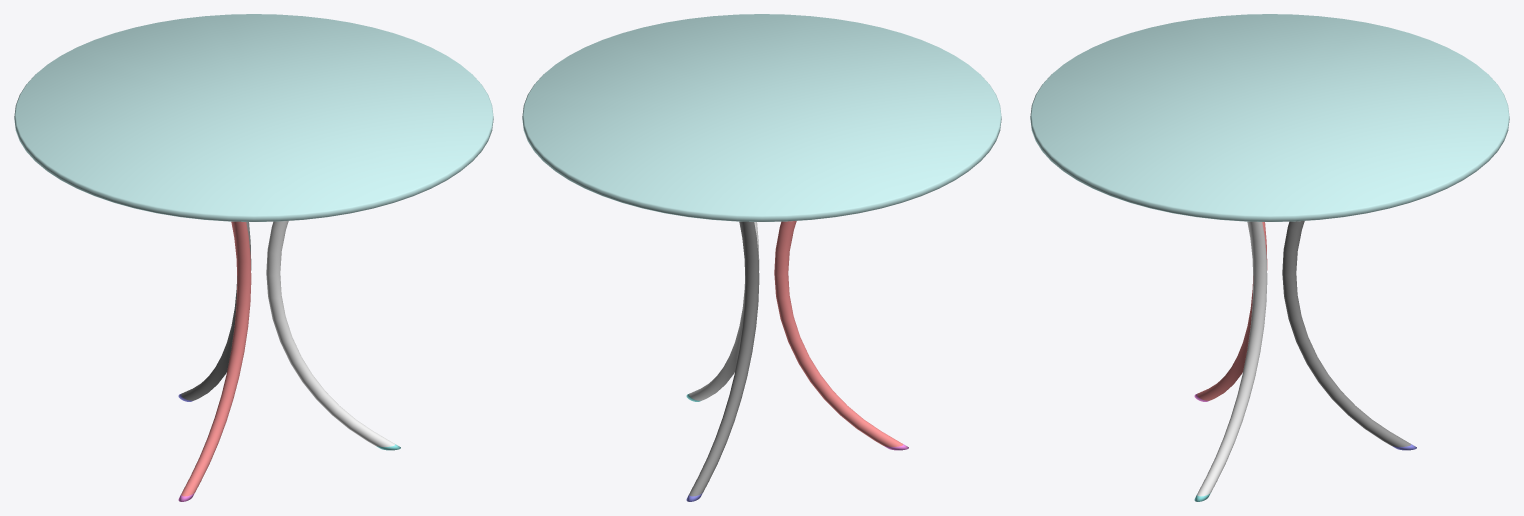
File: TableRes.gltf
The picture shows the model from 3 angles, left to right: view 1: azimuth 30°, elevation 25°; view 2: azimuth 150°, elevation 25°; view 3: azimuth 270°, elevation 25°; orthographic projection.
Visible parts, largest first — view 1: TableRes; view 2: TableRes; view 3: TableRes.
Part boxes in pixels (x1,y1,x2,y2): TableRes: (14,14,493,501); TableRes: (522,14,1001,501); TableRes: (1030,14,1509,501).
Bounding box in the file's own units: 1.52 × 1.17 × 1.52.
